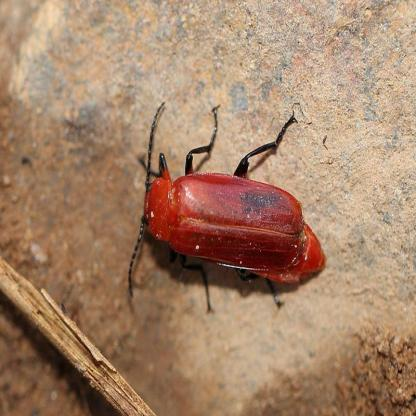beetle: (129, 102, 328, 298)
